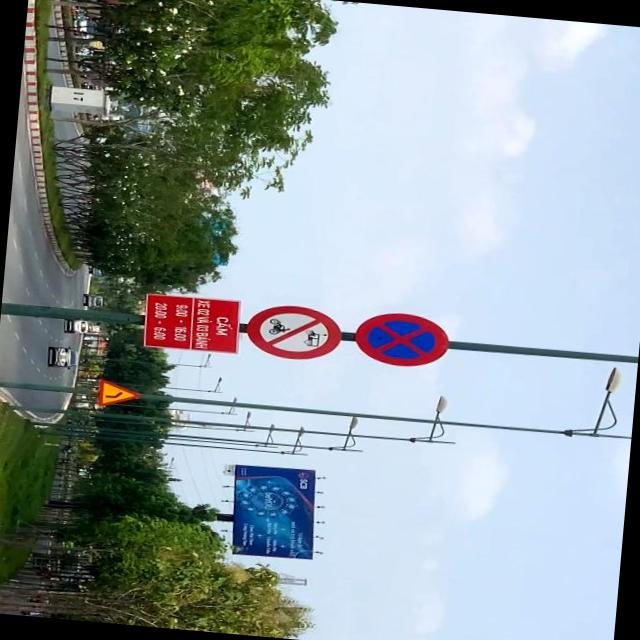P-104: (242, 302, 342, 361)
P-130: (352, 309, 450, 369)
W-201a: (94, 377, 144, 409)
